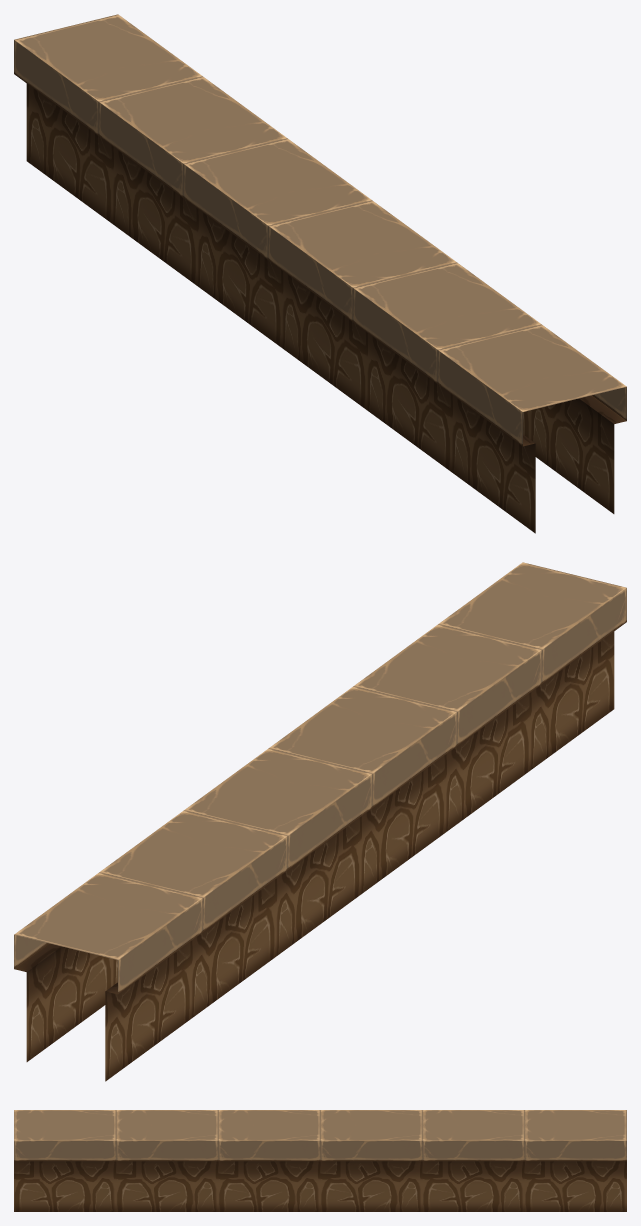
The model's file is FencePart_04.FBX.
The picture shows the model from 3 angles, top to bottom: view 1: azimuth 30°, elevation 25°; view 2: azimuth 150°, elevation 25°; view 3: azimuth 270°, elevation 25°; orthographic projection. The views are drawn at different scales.
Visible parts, largest first — view 1: FencePart_04; view 2: FencePart_04; view 3: FencePart_04.
Boxes of the visible parts, left/top/right/bottom form: FencePart_04: left=14, top=14, right=626, bottom=533; FencePart_04: left=14, top=562, right=626, bottom=1081; FencePart_04: left=14, top=1110, right=626, bottom=1211.
Size of the model in its own units: 0.1763 by 0.2016 by 1.49.
